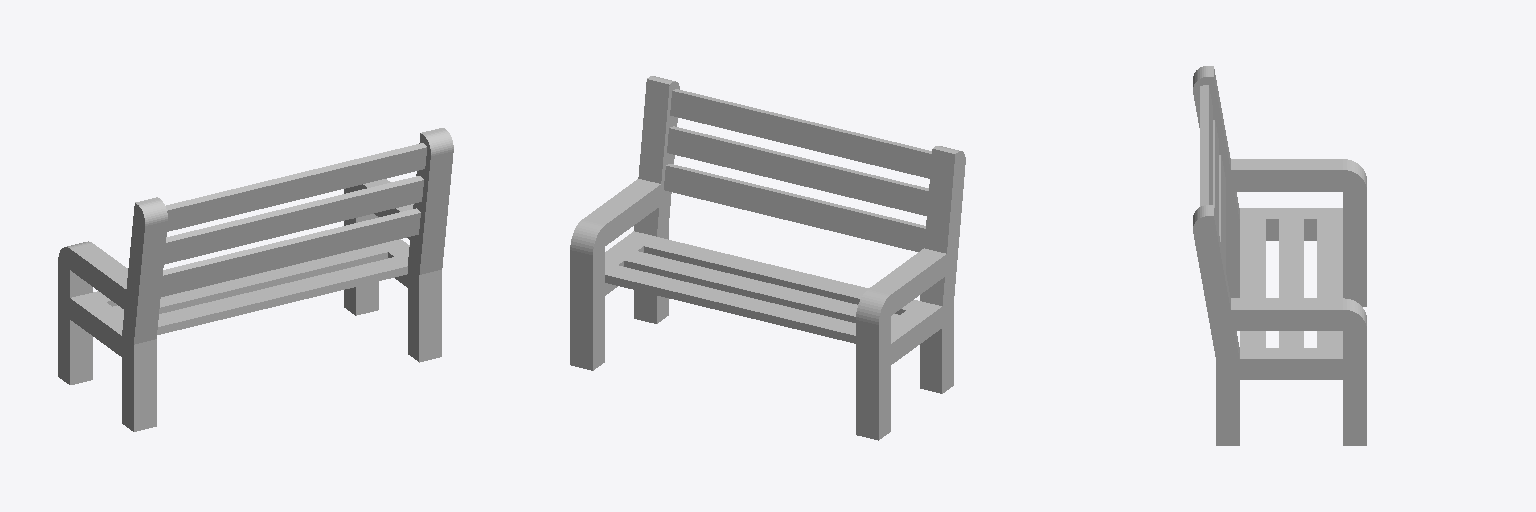
File: bench.obj
3 renders of one model, left to right at view 1: azimuth 30°, elevation 25°; view 2: azimuth 150°, elevation 25°; view 3: azimuth 270°, elevation 25°, orthographic.
Parts seen in each view (by area): view 1: bench; view 2: bench; view 3: bench.
Part boxes in pixels (x1,y1,x2,y2): bench: (58,128,453,431); bench: (570,76,965,440); bench: (1193,66,1366,445).
Size of the model in its own units: 7.7 by 5.49 by 3.76.